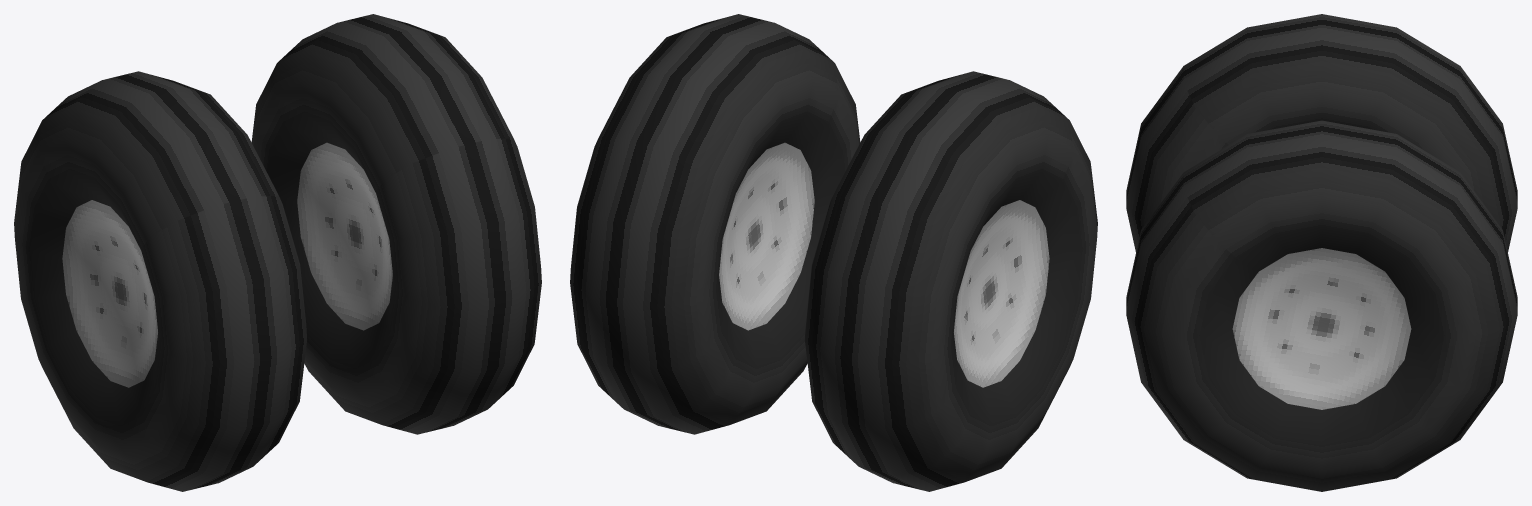
The model's file is wheel.fbx.
3 views of the same model, side by side, from view 1: azimuth 30°, elevation 25°; view 2: azimuth 150°, elevation 25°; view 3: azimuth 270°, elevation 25° (orthographic). The views are drawn at different scales.
Parts seen in each view (by area): view 1: Plane_Wheel; view 2: Plane_Wheel; view 3: Plane_Wheel.
Boxes of the visible parts, bbox=[...] form: Plane_Wheel: bbox=[14, 14, 541, 491]; Plane_Wheel: bbox=[570, 14, 1097, 491]; Plane_Wheel: bbox=[1126, 14, 1517, 491].
Size of the model in its own units: 810 by 808 by 808.
